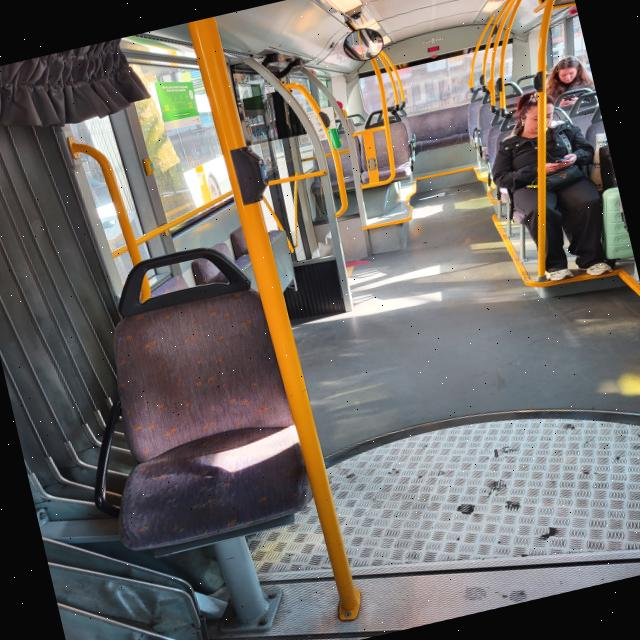empty-seat-frontal: (55, 228, 328, 578), (347, 96, 421, 190), (409, 100, 470, 154)
